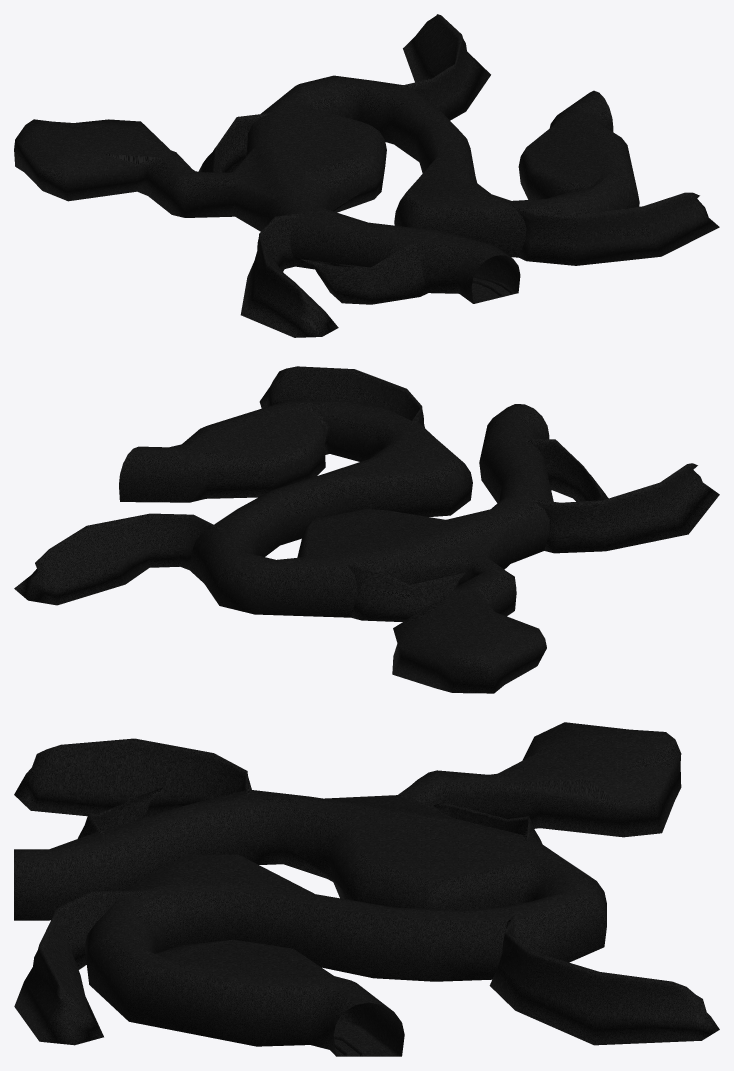
File: Cave Piece 1 Test 5.fbx
3 renders of one model, top to bottom at view 1: azimuth 30°, elevation 25°; view 2: azimuth 150°, elevation 25°; view 3: azimuth 270°, elevation 25°, orthographic. The views are drawn at different scales.
Parts seen in each view (by area): view 1: polySurface4, Tunnel_6, Tunnel_1, Tunnel_2, Tunnel_3, Tunnel_5; view 2: polySurface4, Tunnel_2, Tunnel_1, Tunnel_6, Tunnel_5, Tunnel_3; view 3: polySurface4, Tunnel_2, Tunnel_1, Tunnel_6, Tunnel_3, Tunnel_5.
Boxes of the visible parts, left/top/right/bottom form: polySurface4: left=14, top=75, right=639, bottom=303; Tunnel_6: left=509, top=192, right=719, bottom=265; Tunnel_1: left=240, top=212, right=338, bottom=337; Tunnel_2: left=395, top=14, right=490, bottom=120; Tunnel_3: left=301, top=237, right=431, bottom=304; Tunnel_5: left=198, top=113, right=270, bottom=172; polySurface4: left=119, top=400, right=553, bottom=693; Tunnel_2: left=14, top=513, right=222, bottom=605; Tunnel_1: left=526, top=463, right=719, bottom=553; Tunnel_6: left=259, top=366, right=424, bottom=427; Tunnel_5: left=339, top=562, right=467, bottom=621; Tunnel_3: left=516, top=439, right=608, bottom=501; polySurface4: left=14, top=722, right=681, bottom=1056; Tunnel_2: left=489, top=914, right=719, bottom=1045; Tunnel_1: left=14, top=738, right=251, bottom=817; Tunnel_6: left=14, top=891, right=138, bottom=1045; Tunnel_3: left=77, top=787, right=163, bottom=838; Tunnel_5: left=433, top=803, right=542, bottom=843.
Bounding box in the file's own units: 19.82 × 1.97 × 19.88.
